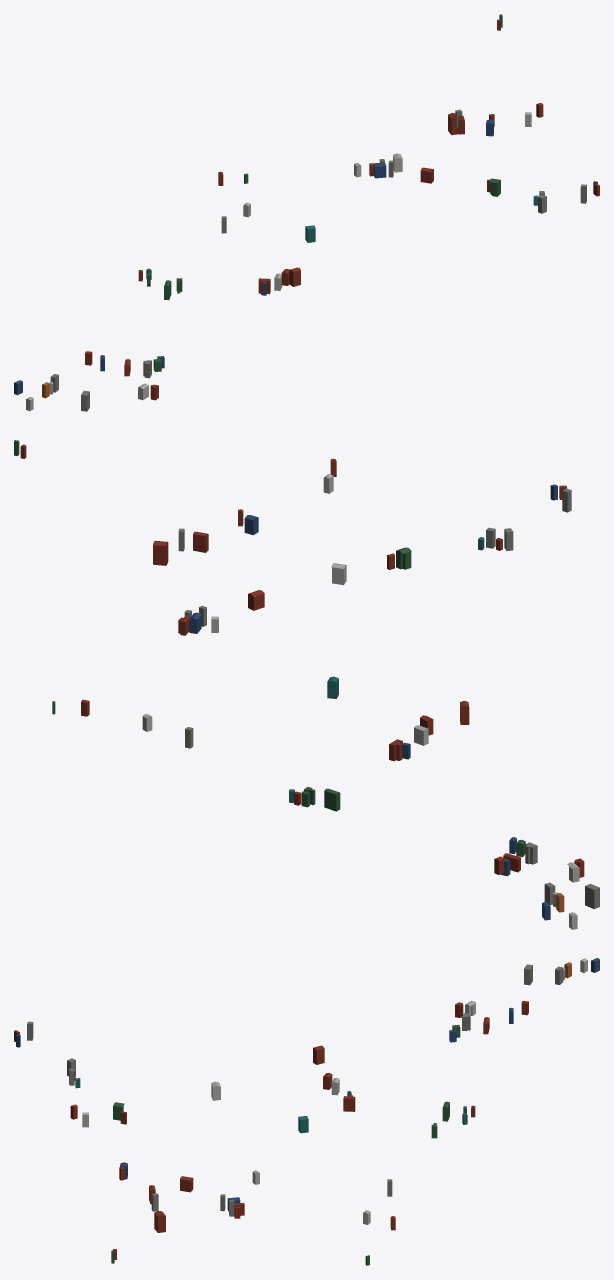
File: near-15-27370-14872.d86bc340.glb
The picture shows the model from 3 angles, top to bottom: view 1: azimuth 90°, elevation 25°; view 2: azimuth 150°, elevation 25°; view 3: azimuth 270°, elevation 25°; orthographic projection. The views are drawn at different scales.
Size of the model in its own units: 1131 by 186 by 825.
